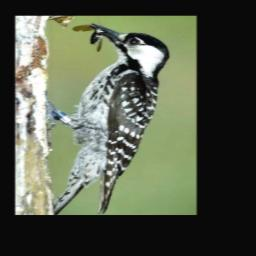Woodpecker: (45, 21, 169, 214)
